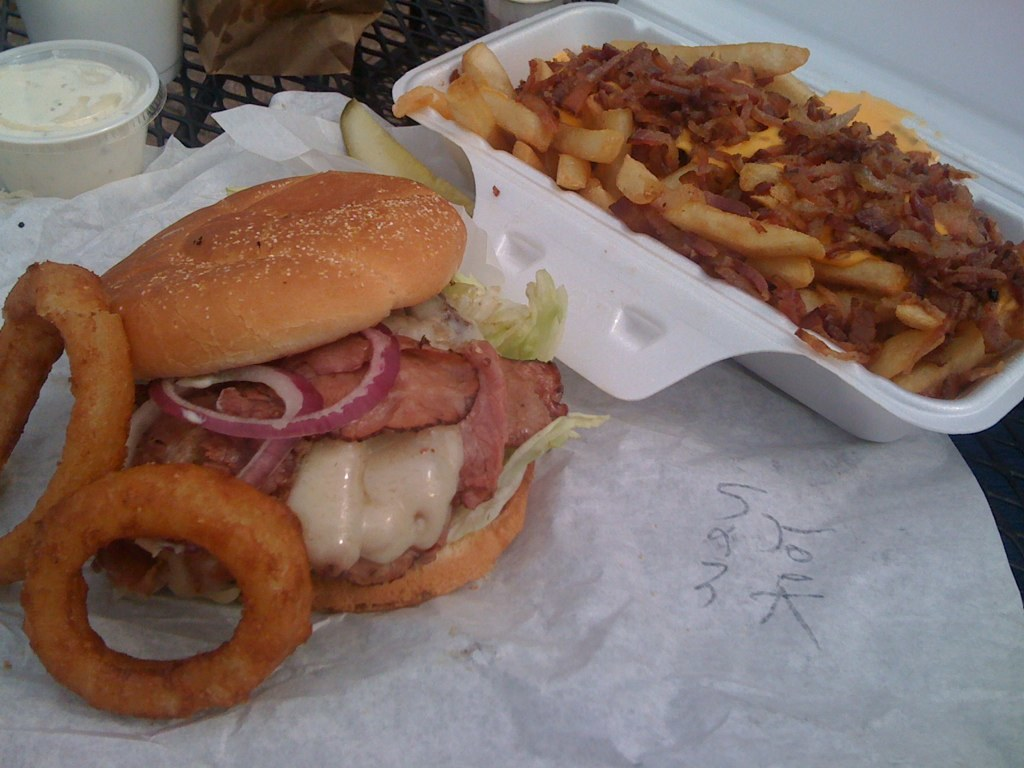French fries: (432, 45, 1022, 406)
